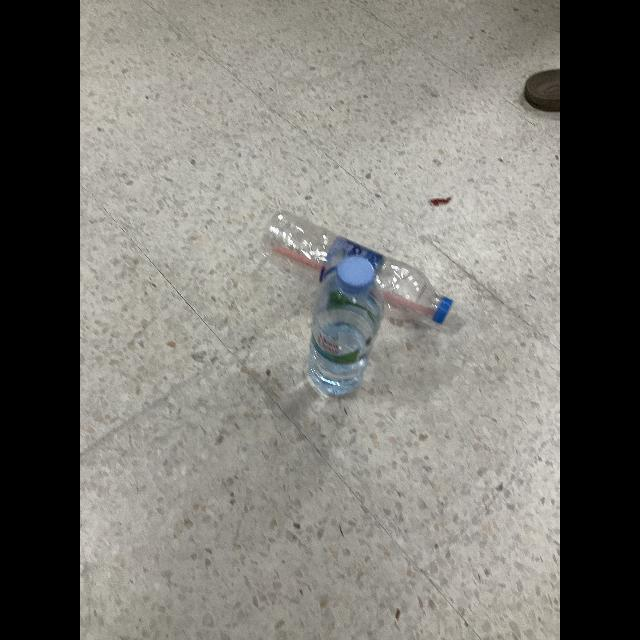plastic_bottle: (261, 207, 454, 326), (306, 256, 384, 404)
plastic_bottle_cap: (338, 256, 374, 292), (431, 296, 452, 324)
